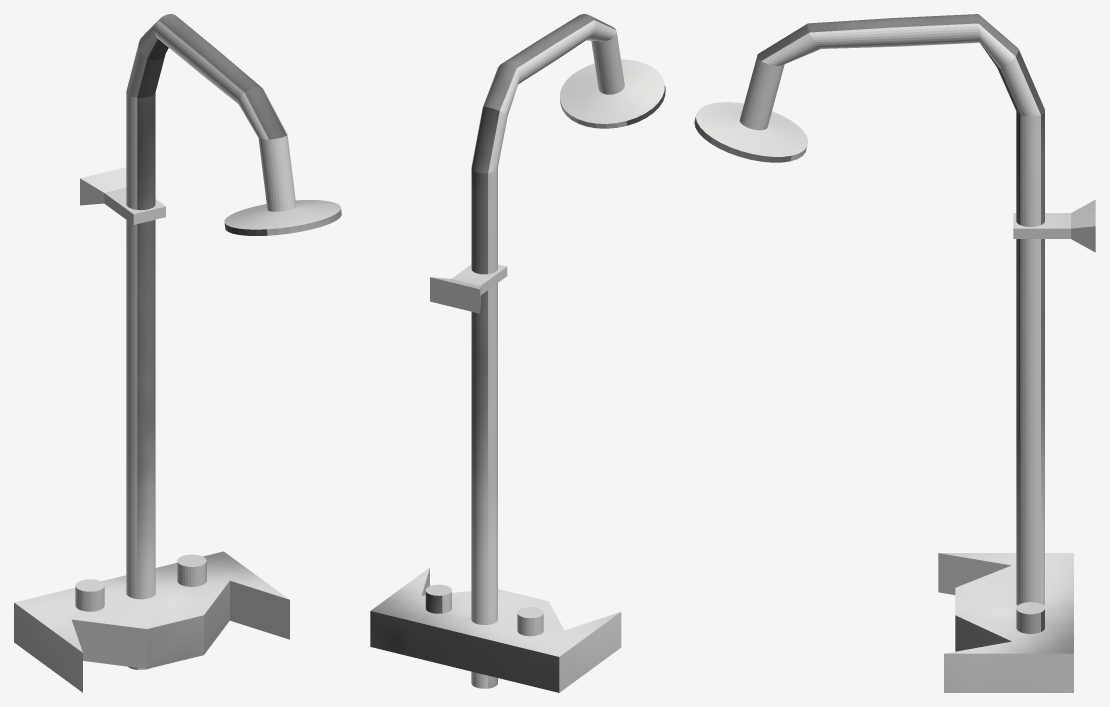
File: shower.fbx
3 renders of one model, left to right at view 1: azimuth 30°, elevation 25°; view 2: azimuth 150°, elevation 25°; view 3: azimuth 270°, elevation 25°, orthographic. The views are drawn at different scales.
Parts seen in each view (by area): view 1: Cube; view 2: Cube; view 3: Cube.
Part boxes in pixels (x1,y1,x2,y2): Cube: (14,14,341,692); Cube: (370,14,665,692); Cube: (694,14,1095,692).
Size of the model in its own units: 165 by 278 by 503.
Materials: 1 (1 with a texture image).
